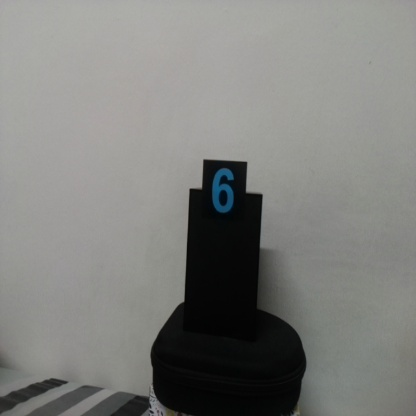id_6: (201, 160, 247, 235)
